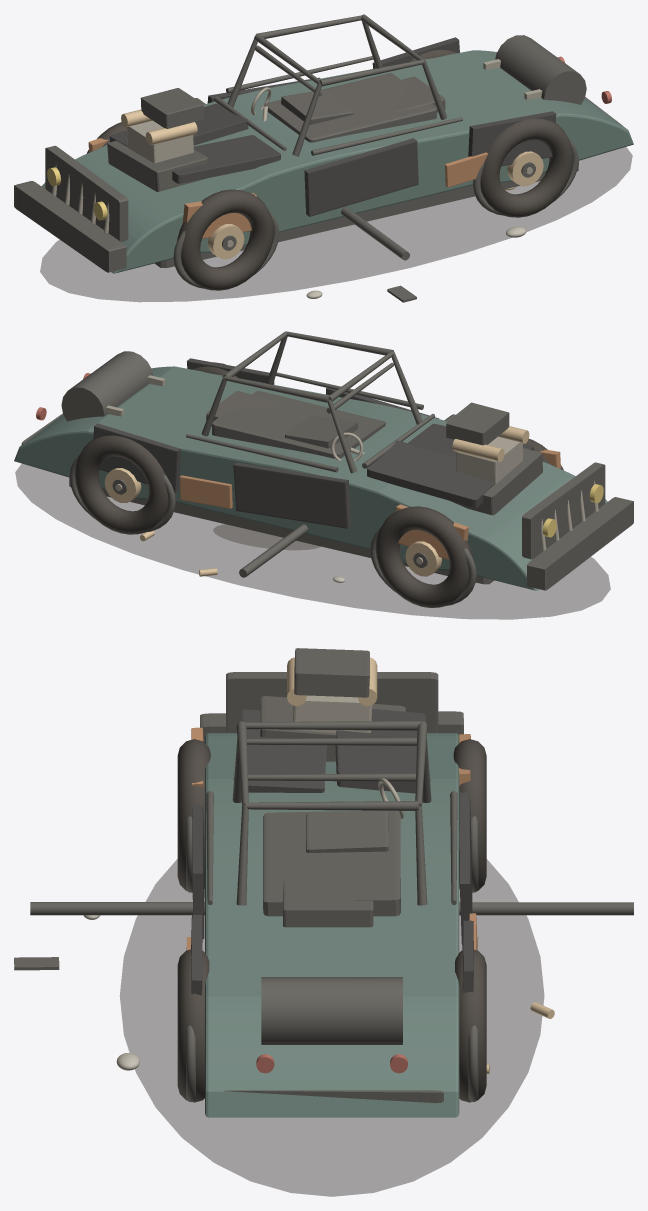
Rendered from car_wreck.glb.
The picture shows the model from 3 angles, top to bottom: view 1: azimuth 30°, elevation 25°; view 2: azimuth 150°, elevation 25°; view 3: azimuth 270°, elevation 25°; orthographic projection. The views are drawn at different scales.
Visible parts, largest first — view 1: stripped_muscle_car_shell, painted_contact_shadow, welded_right_door_armor_plate, offroad_wheel_1_chunky_offroad_tire, offroad_wheel_3_chunky_offroad_tire, dark_empty_cabin, heavy_front_ram_bumper, rear_external_fuel_tank, upper_grille_guard, cut_down_hood_right_plate, open_dark_underbody, exposed_engine_bay_shadow (+25 smaller); view 2: stripped_muscle_car_shell, painted_contact_shadow, welded_left_door_armor_plate, offroad_wheel_0_chunky_offroad_tire, offroad_wheel_2_chunky_offroad_tire, dark_empty_cabin, cut_down_hood_left_plate, heavy_front_ram_bumper, rear_external_fuel_tank, upper_grille_guard, open_dark_underbody, rear_quarter_left_armor (+26 smaller); view 3: stripped_muscle_car_shell, painted_contact_shadow, rear_external_fuel_tank, dark_empty_cabin, upper_grille_guard, cut_down_hood_left_plate, cut_down_hood_right_plate, low_air_intake_scoop, bare_front_seat, bare_rear_seat, offroad_wheel_2_chunky_offroad_tire, offroad_wheel_3_chunky_offroad_tire (+23 smaller).
Part boxes in pixels (<box>): stripped_muscle_car_shell: <box>41,50,633,273</box>; painted_contact_shadow: <box>40,147,632,301</box>; welded_right_door_armor_plate: <box>304,138,418,216</box>; offroad_wheel_1_chunky_offroad_tire: <box>177,189,273,290</box>; offroad_wheel_3_chunky_offroad_tire: <box>480,118,573,217</box>; dark_empty_cabin: <box>264,73,437,142</box>; heavy_front_ram_bumper: <box>14,181,126,272</box>; rear_external_fuel_tank: <box>495,35,586,104</box>; upper_grille_guard: <box>45,145,128,241</box>; cut_down_hood_right_plate: <box>172,135,280,183</box>; open_dark_underbody: <box>155,161,578,268</box>; exposed_engine_bay_shadow: <box>107,140,207,191</box>; stripped_muscle_car_shell: <box>14,366,607,590</box>; painted_contact_shadow: <box>15,464,610,619</box>; welded_left_door_armor_plate: <box>233,462,351,528</box>; offroad_wheel_0_chunky_offroad_tire: <box>375,506,473,607</box>; offroad_wheel_2_chunky_offroad_tire: <box>74,435,168,534</box>; dark_empty_cabin: <box>212,391,385,458</box>; cut_down_hood_left_plate: <box>367,440,495,507</box>; heavy_front_ram_bumper: <box>527,497,633,590</box>; rear_external_fuel_tank: <box>61,351,153,421</box>; upper_grille_guard: <box>522,462,605,559</box>; open_dark_underbody: <box>69,478,494,584</box>; rear_quarter_left_armor: <box>93,423,180,492</box>; stripped_muscle_car_shell: <box>205,733,459,1117</box>; painted_contact_shadow: <box>120,859,544,1196</box>; rear_external_fuel_tank: <box>261,977,402,1044</box>; dark_empty_cabin: <box>263,810,400,916</box>; upper_grille_guard: <box>226,672,438,732</box>; cut_down_hood_left_plate: <box>335,709,425,793</box>; cut_down_hood_right_plate: <box>241,709,326,792</box>; low_air_intake_scoop: <box>294,648,369,697</box>; bare_front_seat: <box>306,810,388,852</box>; bare_rear_seat: <box>283,875,373,927</box>; offroad_wheel_2_chunky_offroad_tire: <box>455,949,486,1102</box>; offroad_wheel_3_chunky_offroad_tire: <box>177,949,209,1102</box>.
Size of the model in its own units: 4.84 by 1.36 by 3.15.
